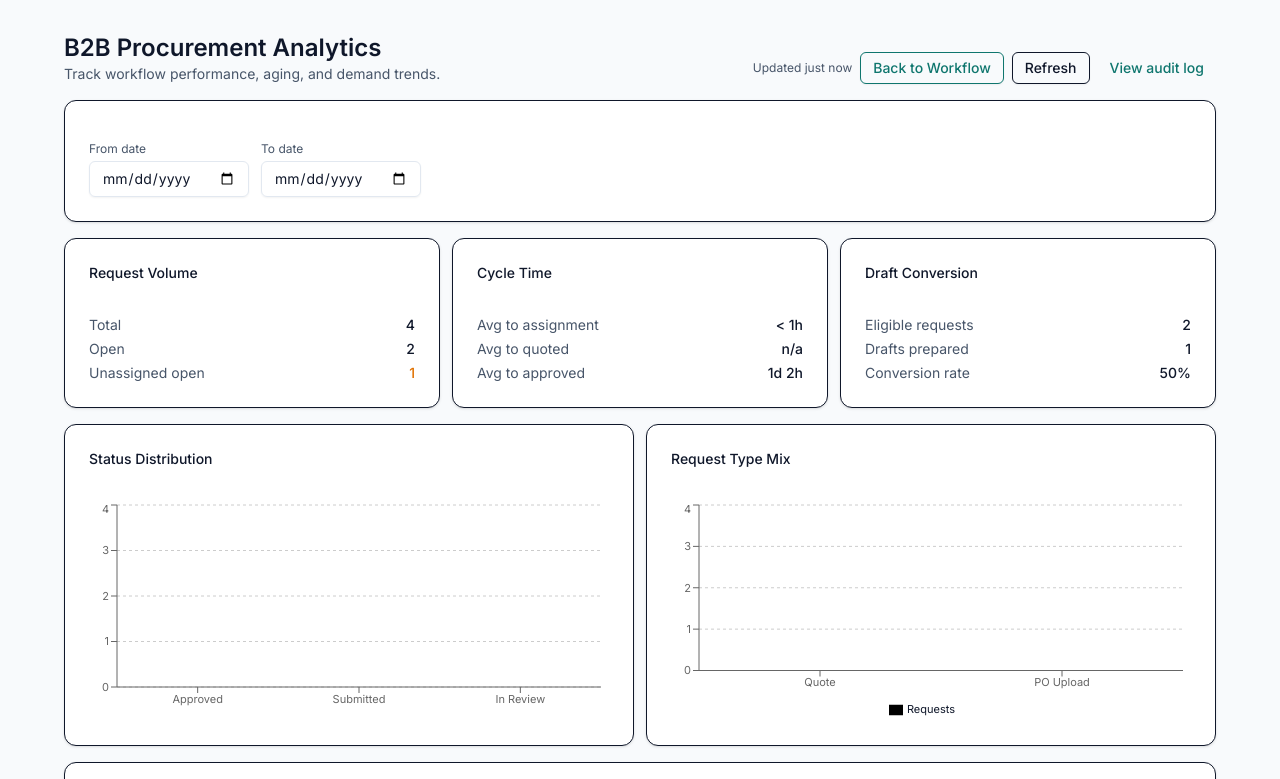
Test case: B2BProcurementAnalyticsPage › keeps invalid date ranges client-side and shows a validation alert
Type "2026-06-01" into the date field labelled "From date" at (169, 179), box [89,161,249,197]
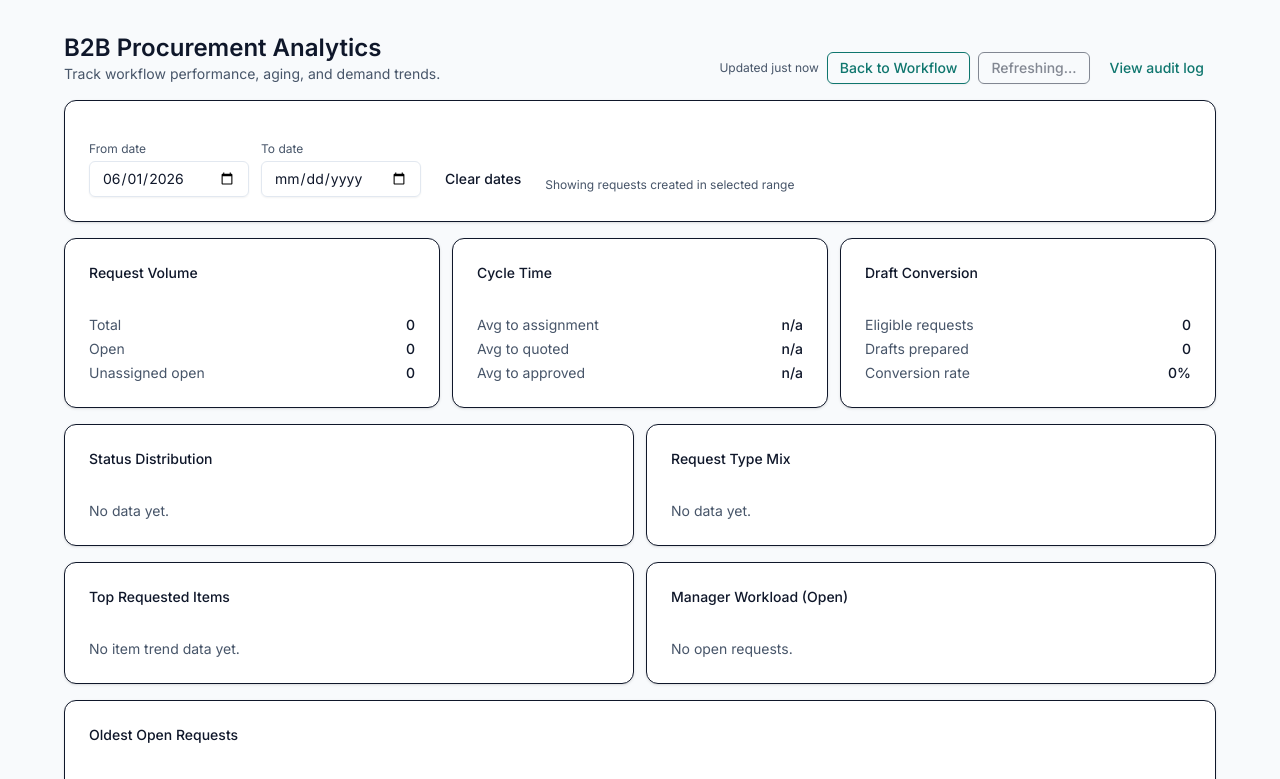
Type "2026-01-01" into the date field labelled "To date" at (341, 179), box [261,161,421,197]
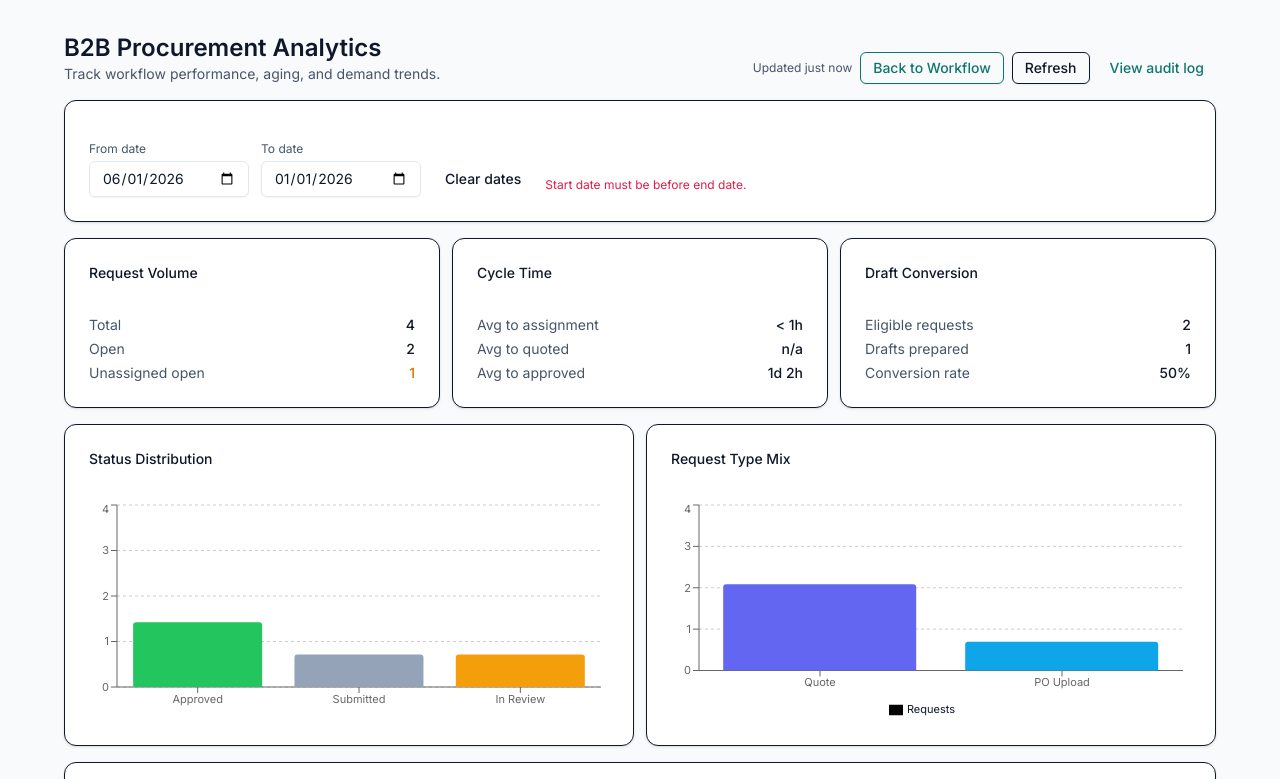
Expected: the message reads "Start date must be before end date.", [545,177,746,192]
